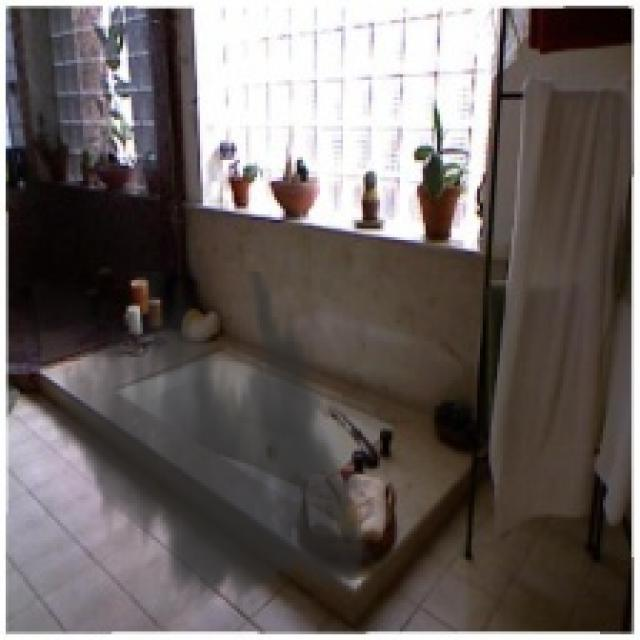smoke: (43, 272, 386, 617)
